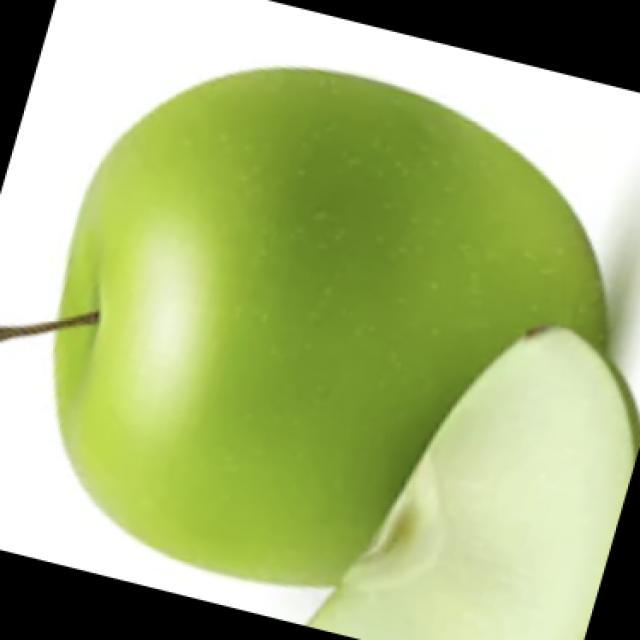Fresh Apple: (87, 45, 600, 640)
